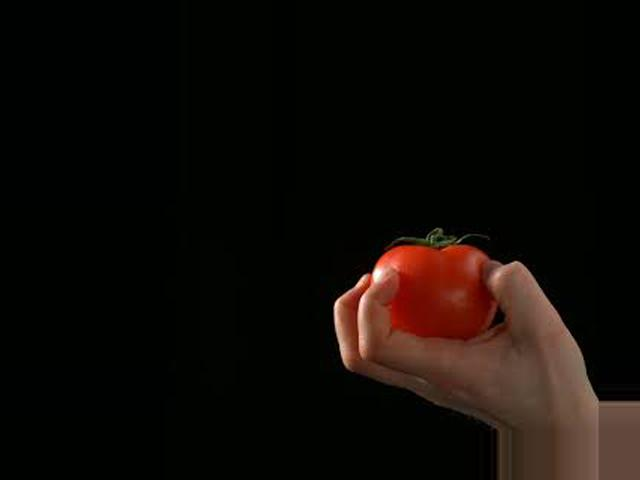tomato: (372, 230, 497, 336)
